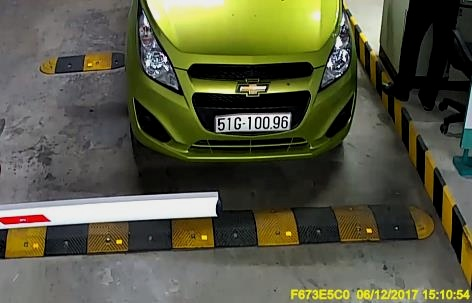plate: (211, 110, 294, 131)
